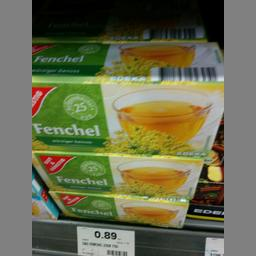tea: (32, 41, 223, 154), (31, 148, 202, 198)
